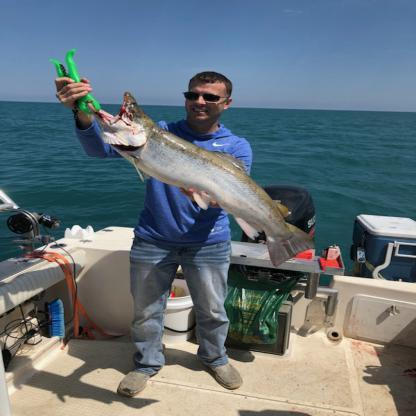fish: (79, 90, 313, 264)
